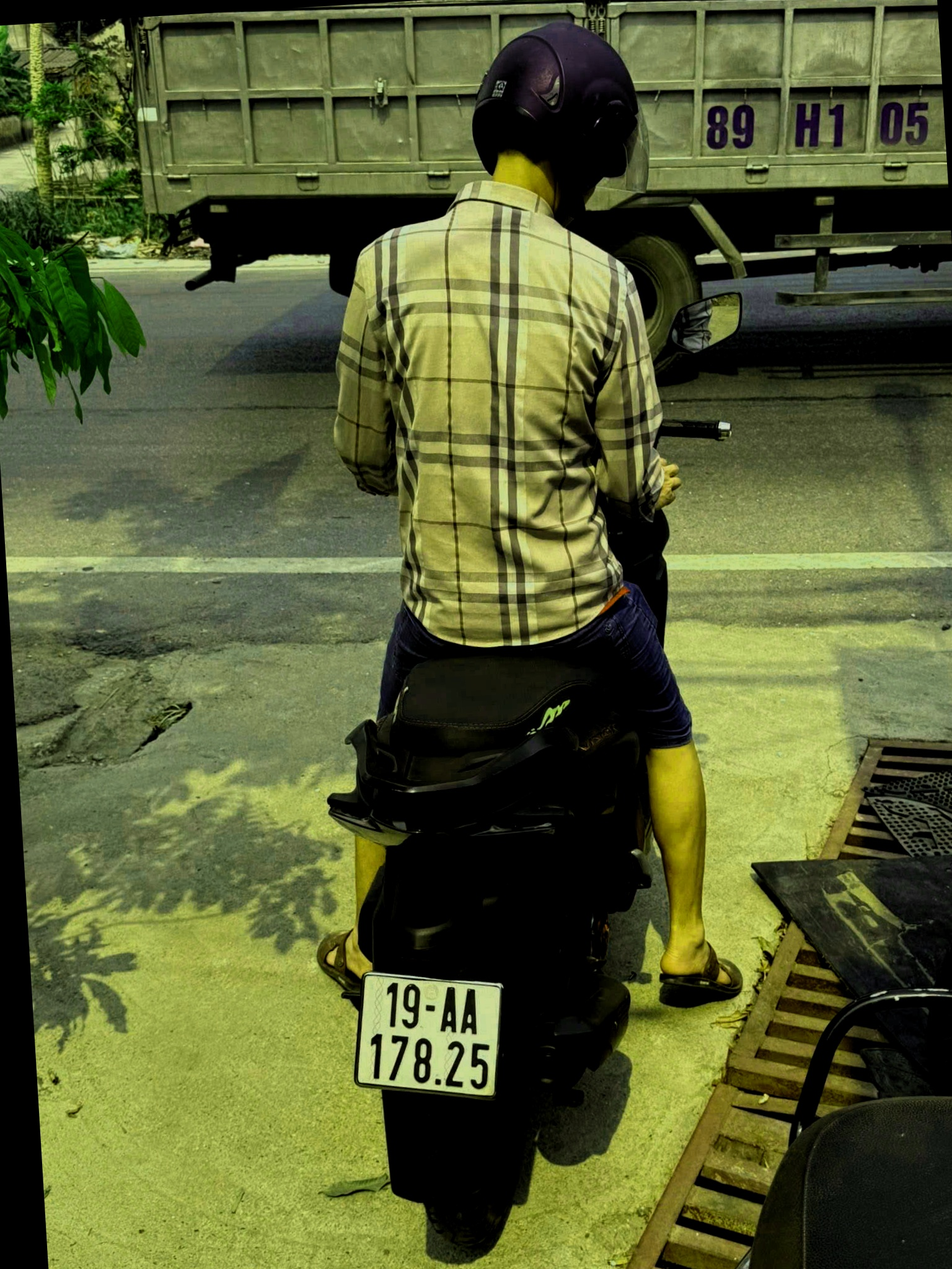Bien-so: (346, 955, 513, 1104)
